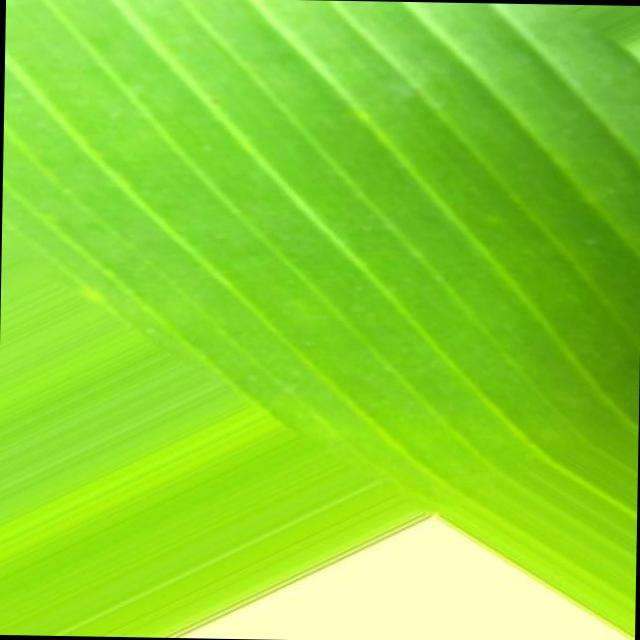Banana_Healthy: (218, 51, 588, 386)
